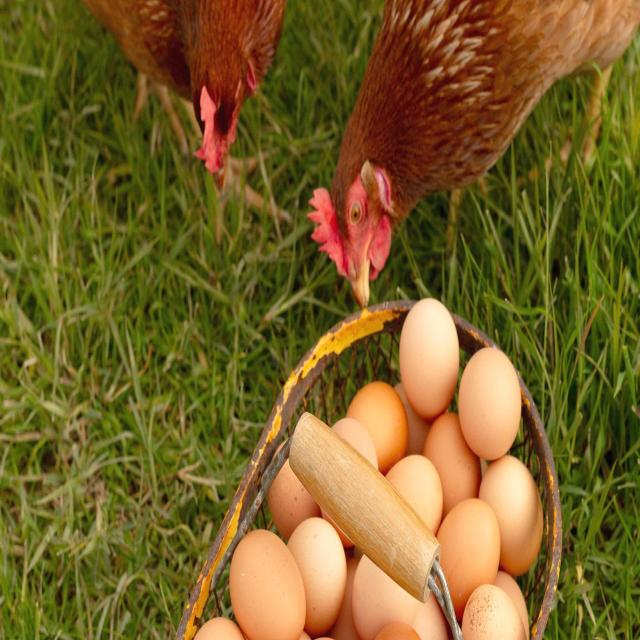huevos: (397, 299, 460, 428)
